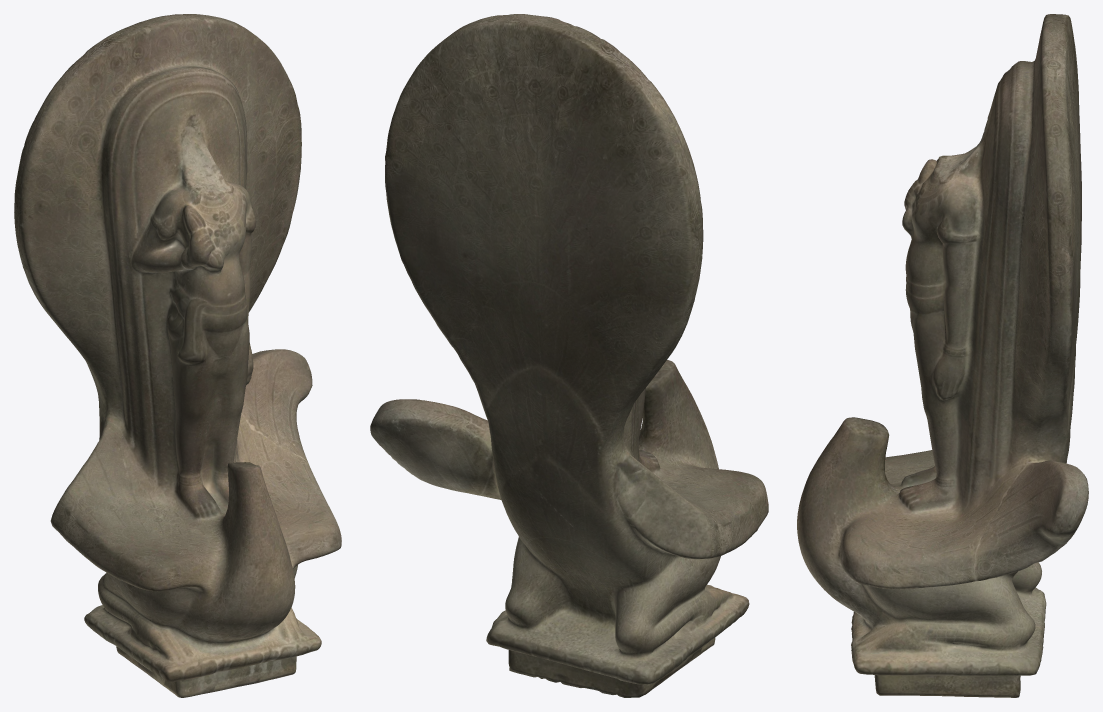
Rendered from 16_Skanda_final.glb.
3 views of the same model, side by side, from view 1: azimuth 30°, elevation 25°; view 2: azimuth 150°, elevation 25°; view 3: azimuth 270°, elevation 25° (orthographic). The views are drawn at different scales.
Bounding box in the file's own units: 0.4589 × 0.9138 × 0.3775.
Materials: 1 (1 with a texture image).
